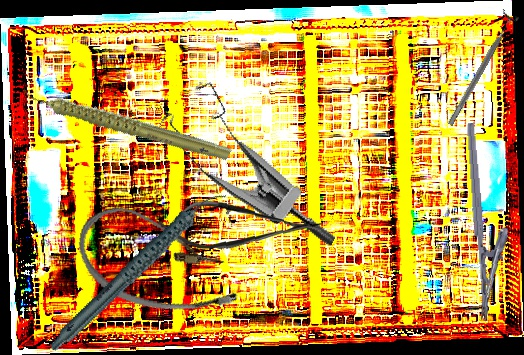Cannula: (67, 199, 252, 326)
Fixation Ring: (440, 8, 521, 130)
Handpiece: (23, 187, 252, 353), (19, 42, 234, 201)
Micro Scissor: (156, 199, 325, 254)
Needle Holder: (465, 120, 516, 322)
Speculum: (141, 70, 373, 249)
